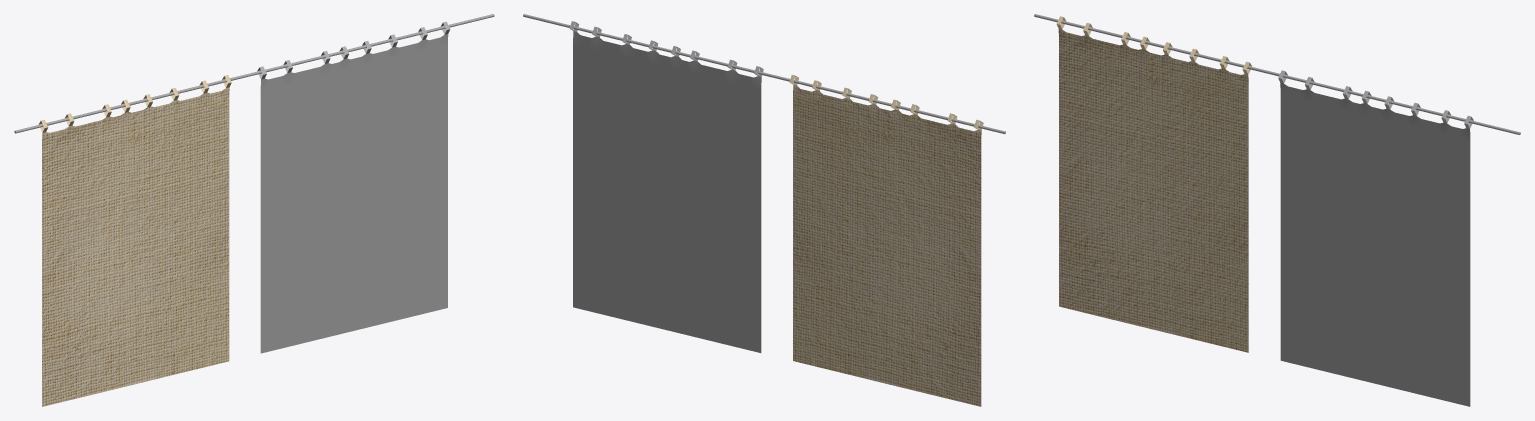
File: cortinas-props.fbx
3 views of the same model, side by side, from view 1: azimuth 30°, elevation 25°; view 2: azimuth 150°, elevation 25°; view 3: azimuth 330°, elevation 25° (orthographic).
Parts seen in each view (by area): view 1: pPlane6, pPlane5, pCylinder1; view 2: pPlane5, pPlane6, pCylinder1; view 3: pPlane5, pPlane6, pCylinder1.
Boxes of the visible parts, x1=… form: pPlane6: x1=38, y1=75, x2=231, y2=406; pPlane5: x1=257, y1=21, x2=450, y2=353; pCylinder1: x1=14, y1=14, x2=494, y2=133; pPlane5: x1=569, y1=21, x2=763, y2=352; pPlane6: x1=789, y1=75, x2=983, y2=406; pCylinder1: x1=523, y1=14, x2=1005, y2=134; pPlane5: x1=1278, y1=70, x2=1473, y2=406; pPlane6: x1=1056, y1=16, x2=1252, y2=352; pCylinder1: x1=1034, y1=14, x2=1520, y2=134.
Size of the model in its own units: 140 by 79.81 by 3.08.
2 materials, 1 textured.
